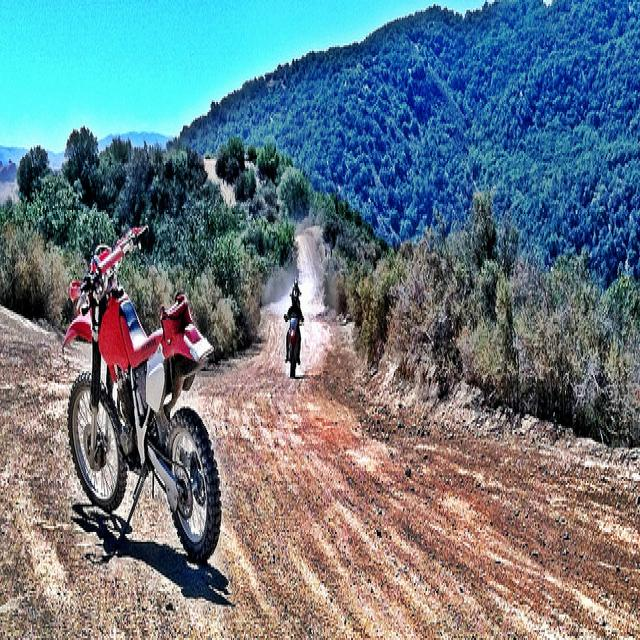motor: (60, 221, 223, 564), (284, 315, 304, 377)
